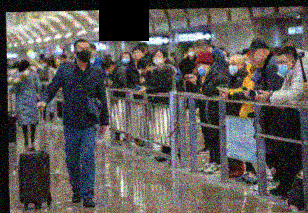mask_weared_incorrect: (153, 52, 163, 66)
with_mask: (275, 57, 291, 75), (75, 45, 91, 62), (227, 59, 239, 75), (196, 62, 207, 76), (120, 54, 130, 65), (187, 48, 194, 57)
without_mask: (249, 49, 264, 66), (131, 49, 142, 61), (138, 66, 149, 75), (104, 67, 114, 75)
